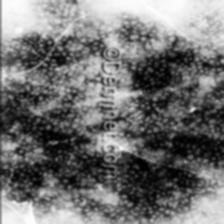Potentially Malignant Skin Tumors: (120, 0, 224, 224), (0, 0, 101, 224)
